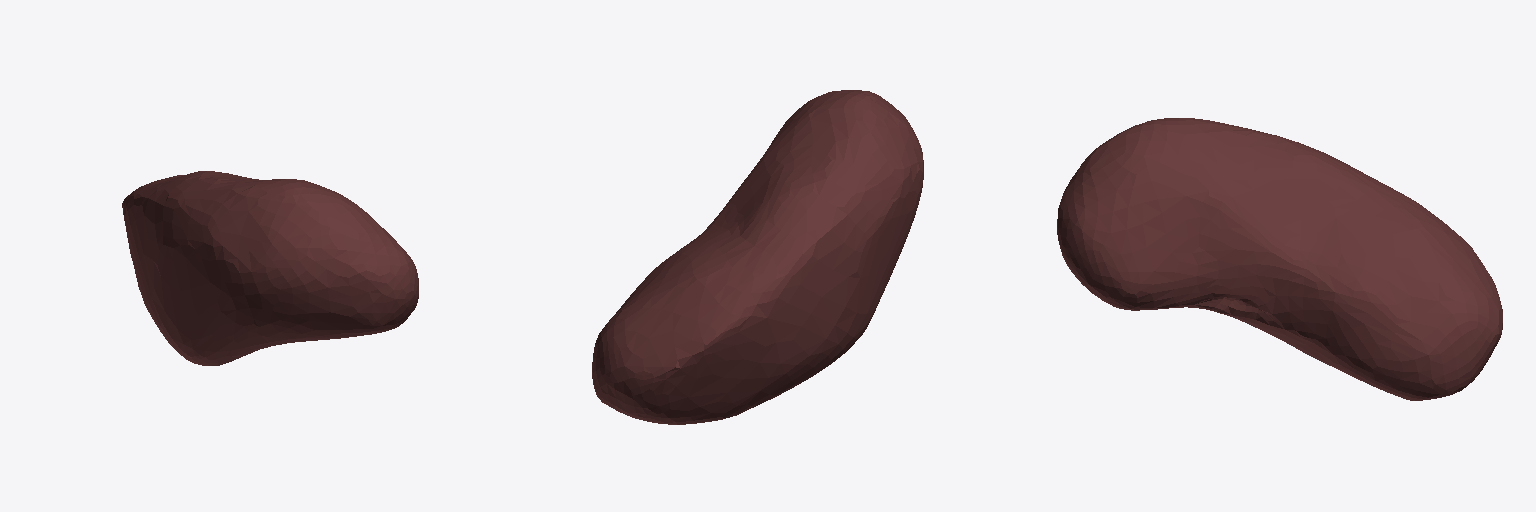
Rendered from kidney_hollow.obj.
The picture shows the model from 3 angles: view 1: azimuth 30°, elevation 25°; view 2: azimuth 150°, elevation 25°; view 3: azimuth 270°, elevation 25°; orthographic projection.
Parts seen in each view (by area): view 1: kidney_hollow_Model::org.Ren_dexter.005; view 2: kidney_hollow_Model::org.Ren_dexter.005; view 3: kidney_hollow_Model::org.Ren_dexter.005.
Part boxes in pixels (left/top/right/bottom): kidney_hollow_Model::org.Ren_dexter.005: left=122, top=171, right=418, bottom=365; kidney_hollow_Model::org.Ren_dexter.005: left=592, top=90, right=923, bottom=424; kidney_hollow_Model::org.Ren_dexter.005: left=1057, top=118, right=1502, bottom=400.
Bounding box in the file's own units: 4.4 × 5.18 × 8.73.